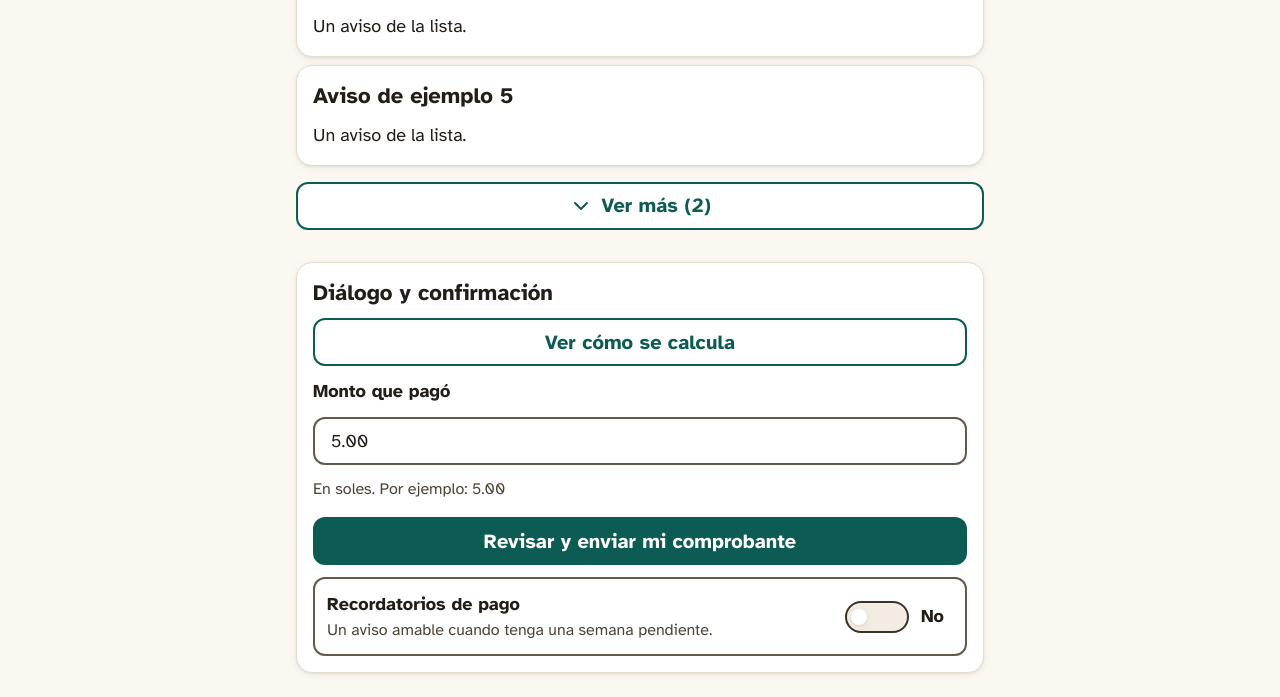
Test: @HU-ACC-03 Confirmación en dos pasos › @HU-ACC-03 CA3 Cancelar sale sin perder lo que ya escribió
(page scrolled)
Replace the text in the field with id "campo-monto" with "7.50". click: coordinates (640, 441)
box: [313,417,967,465]
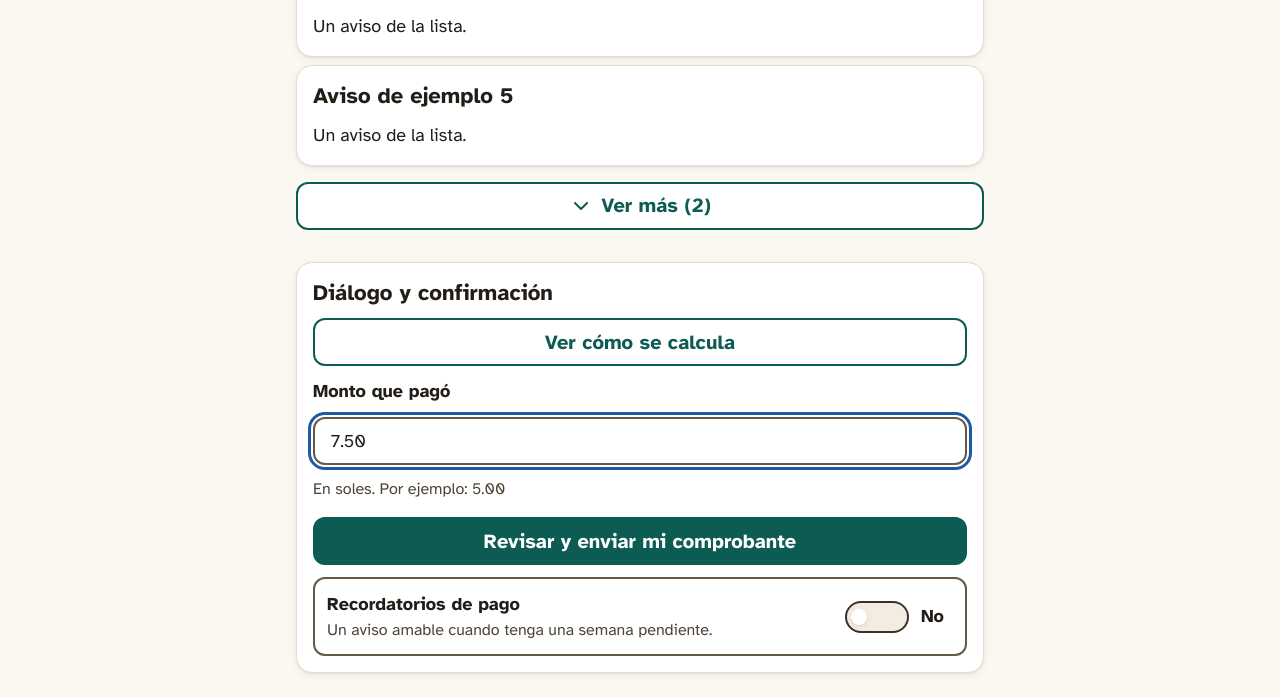
Click the button "Revisar y enviar mi comprobante". click: coordinates (640, 541)
box: [313,517,967,565]
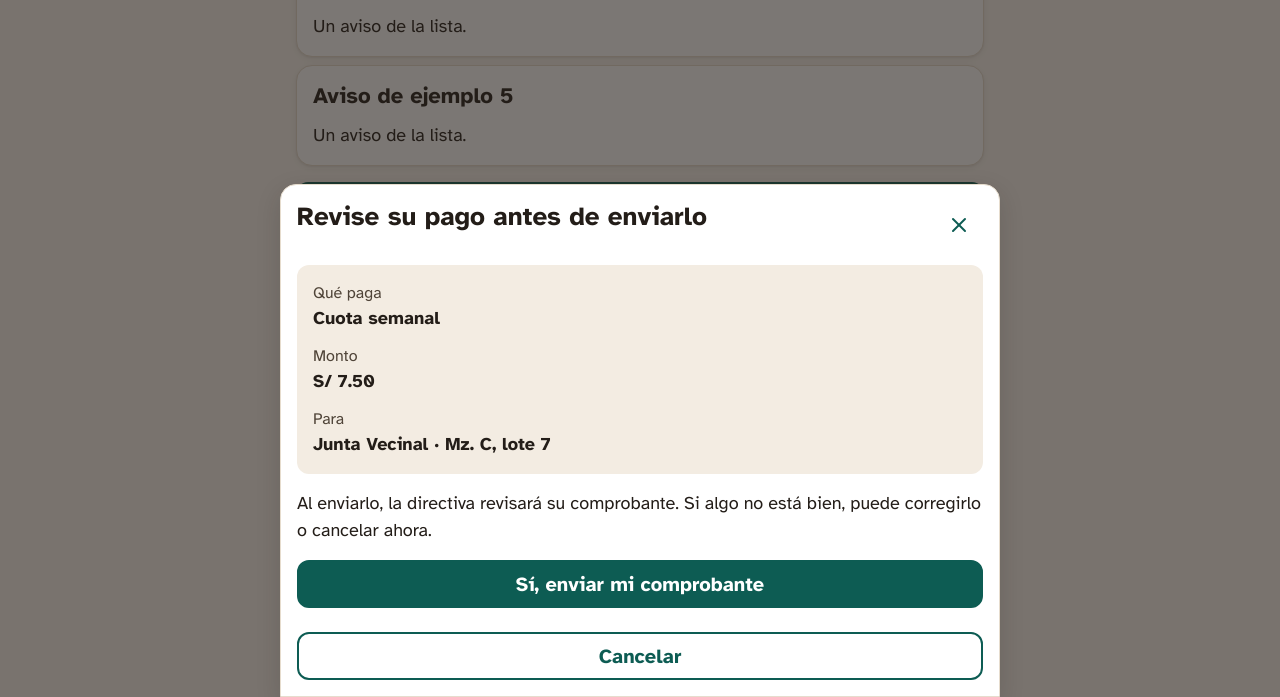
Click the button "Cancelar". click: coordinates (640, 656)
box: [297,632,983,680]
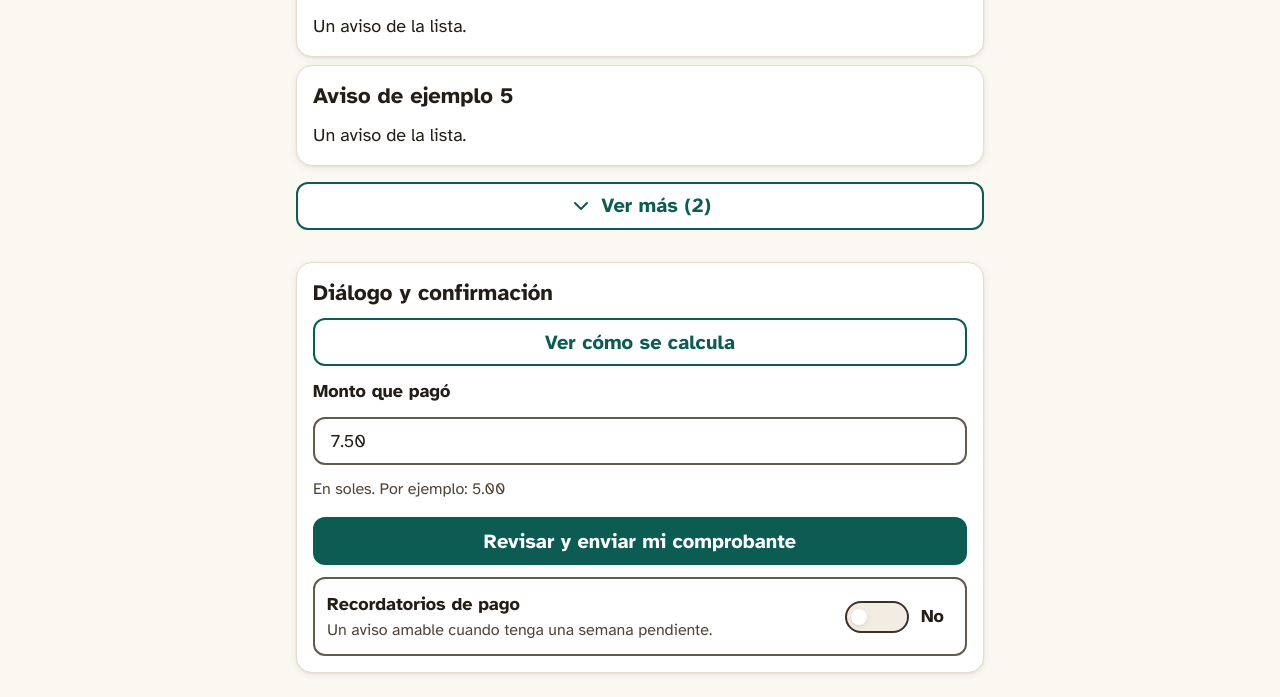
Expected: the field with id "campo-monto" holds "7.50", [313,417,967,465]
Expected: the dialog is gone
